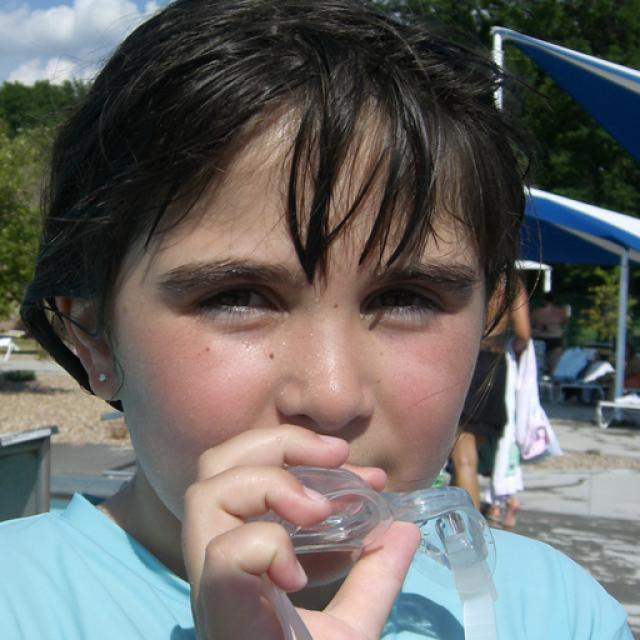happy: (111, 107, 486, 558)
